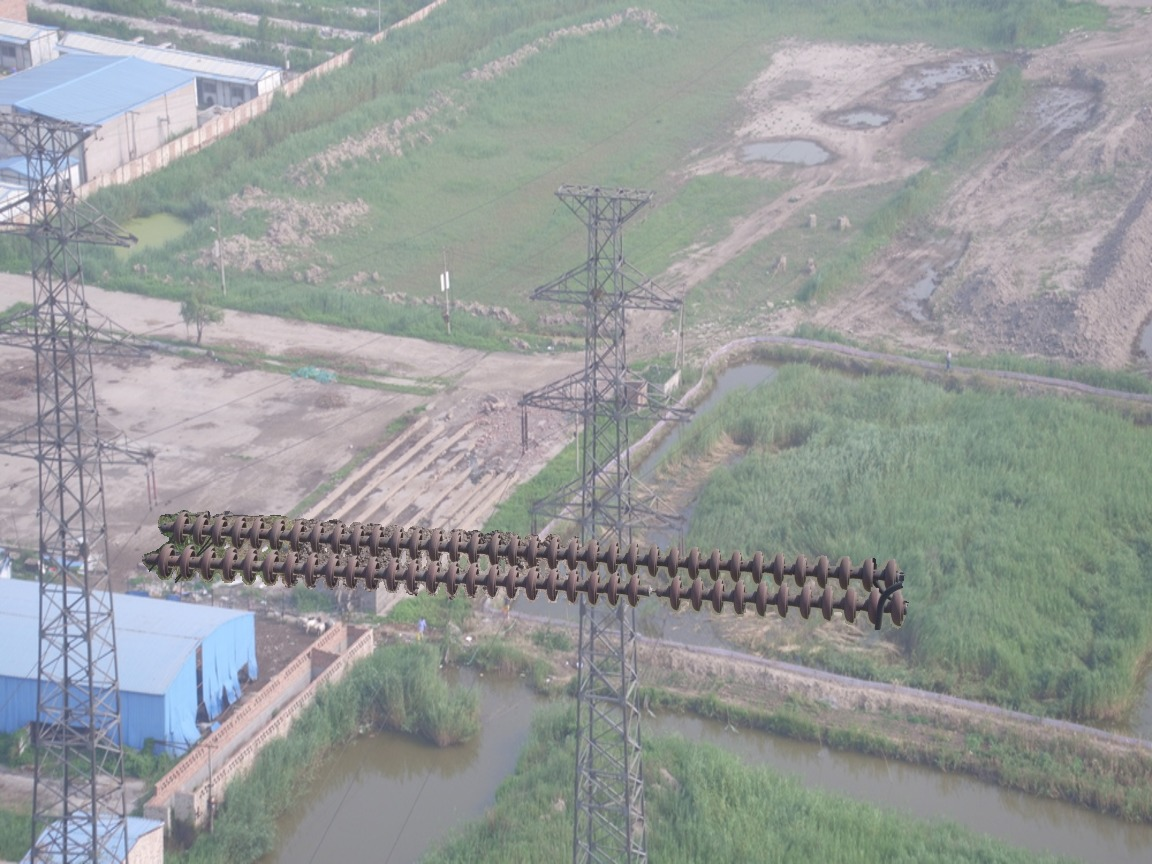defect: (621, 574, 690, 611)
